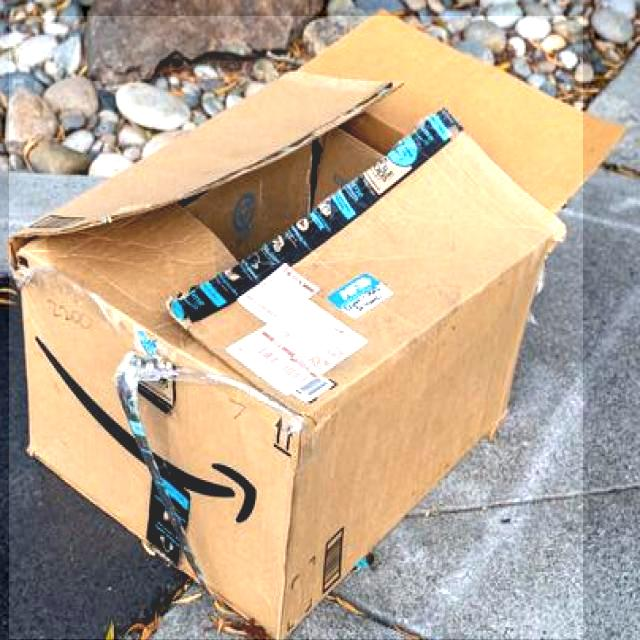cut: (9, 65, 573, 639)
deform: (10, 71, 563, 639)
open: (9, 16, 583, 639)
